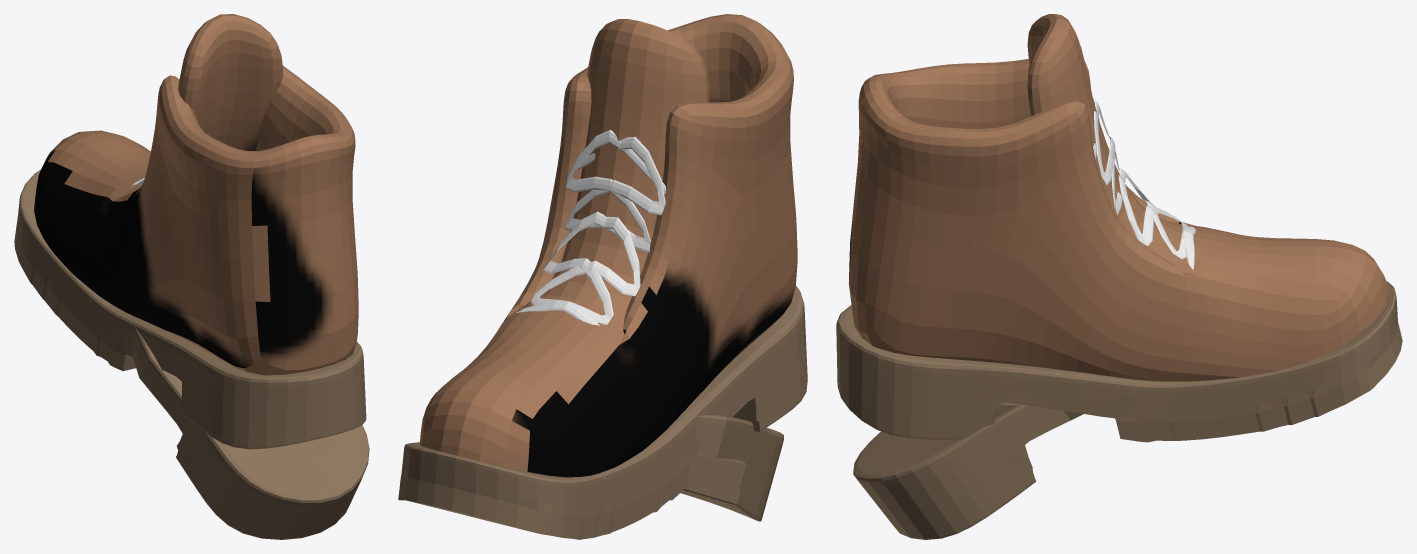
Rendered from boot_fixedSole3.fbx.
The picture shows the model from 3 angles, left to right: view 1: azimuth 30°, elevation 25°; view 2: azimuth 150°, elevation 25°; view 3: azimuth 270°, elevation 25°; orthographic projection. The views are drawn at different scales.
Parts seen in each view (by area): view 1: boot, sole, brokenSole; view 2: boot, sole, laces, brokenSole; view 3: boot, sole, brokenSole, laces.
Part boxes in pixels (<box>): boot: <box>34,14,358,375</box>; sole: <box>14,169,366,449</box>; brokenSole: <box>132,325,369,539</box>; boot: <box>419,14,797,477</box>; sole: <box>398,286,807,539</box>; laces: <box>516,129,665,325</box>; brokenSole: <box>680,415,783,521</box>; boot: <box>848,14,1390,381</box>; sole: <box>836,281,1402,442</box>; brokenSole: <box>853,404,1083,539</box>; laces: <box>1093,100,1195,269</box>.
Size of the model in its own units: 319 by 906 by 932.
